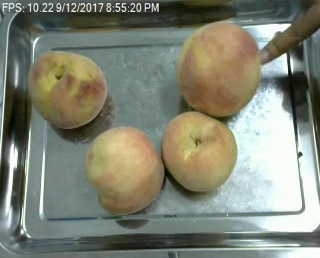Peach: (178, 20, 260, 115), (85, 127, 164, 216), (27, 50, 108, 130), (162, 110, 237, 192)
